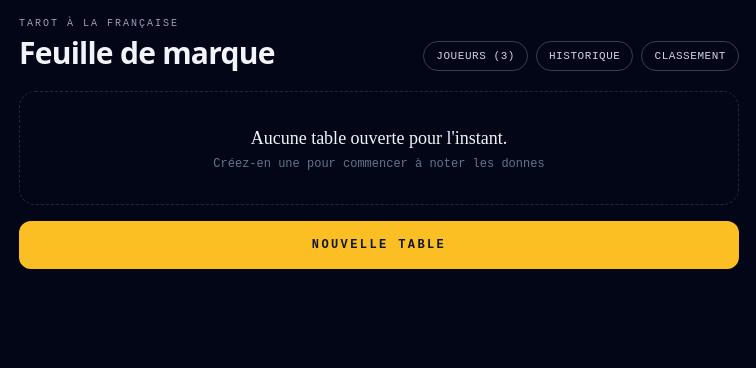
Écran de configuration du trombinoscope › renomme une fiche et conserve le tri
Expected: the heading "Feuille de marque" is shown, [19,35,275,71]
Click the link "Joueurs (3)": (476, 56) [423,40,528,71]
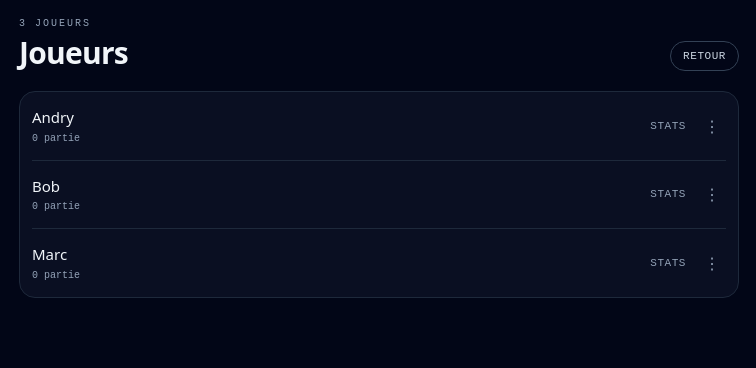
Now the heading "Joueurs" is shown, box [19,35,128,71]
Click the button named "Plus d'actions": (712, 194) [698,180,726,208]
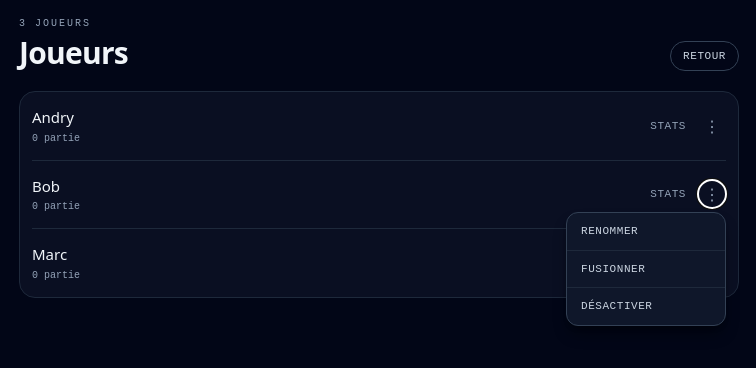
Click the button "Renommer": (646, 232) [567,213,725,250]
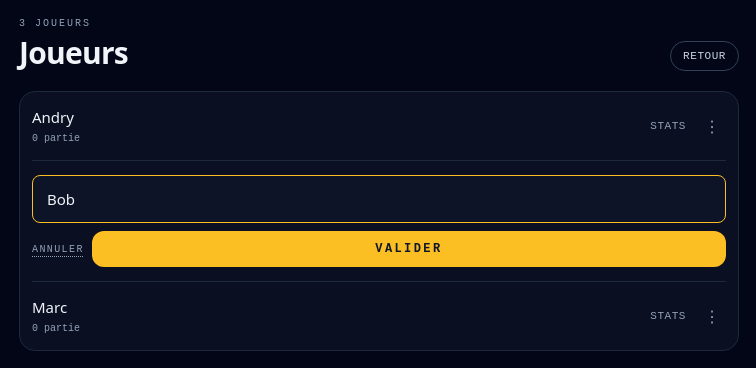
Replace the text in the field showing "Bob" with "Bobby": (379, 199) [32,174,726,223]
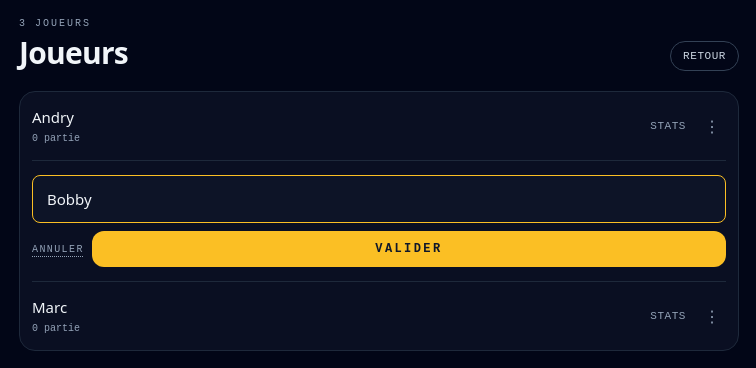
Click the button "Valider": (409, 249) [92,231,726,267]
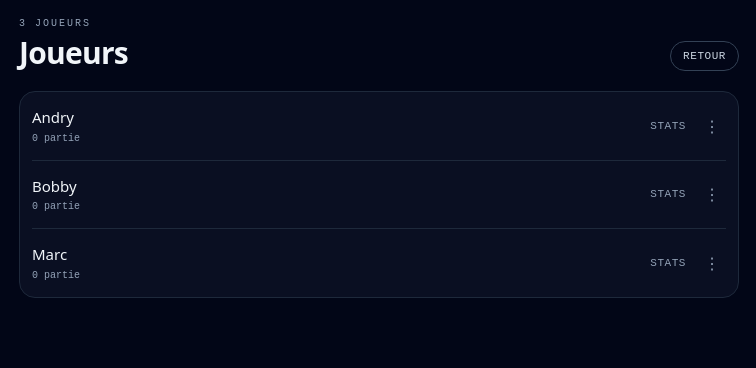
Now the elements with test id "roster-nom" read "Andry", "Bobby", "Marc", in this order, box [32,106,80,128]; [32,174,80,197]; [32,244,67,264]
